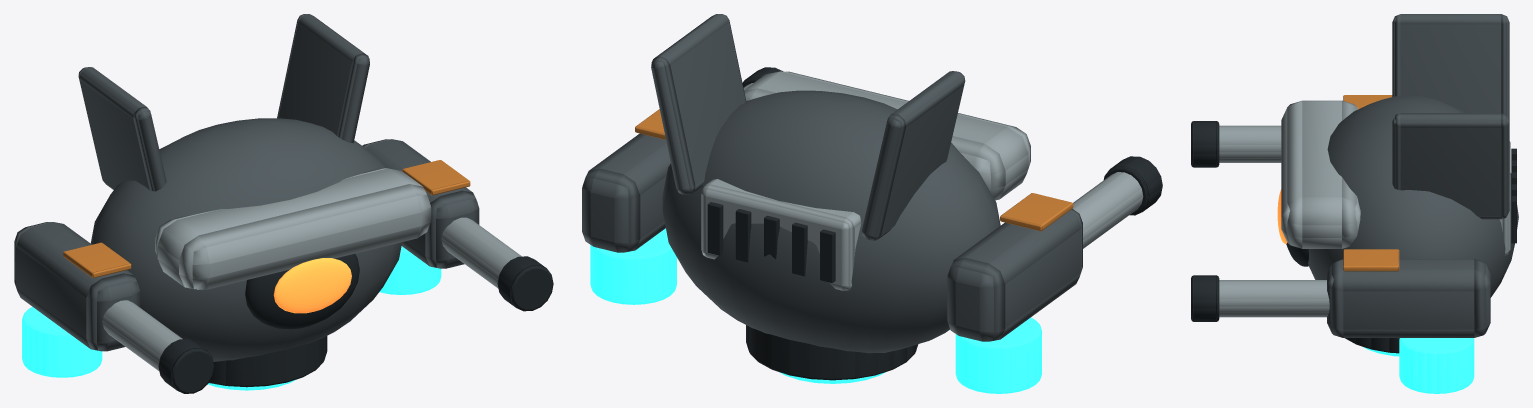
File: sentinel.glb
3 views of the same model, side by side, from view 1: azimuth 30°, elevation 25°; view 2: azimuth 150°, elevation 25°; view 3: azimuth 270°, elevation 25° (orthographic). The views are drawn at different scales.
Parts seen in each view (by area): view 1: sentinel; view 2: sentinel; view 3: sentinel.
Part boxes in pixels (x1,y1,x2,y2): sentinel: [14, 14, 553, 393]; sentinel: [582, 14, 1162, 393]; sentinel: [1191, 14, 1518, 393].
Size of the model in its own units: 1.88 by 1.27 by 1.4.
